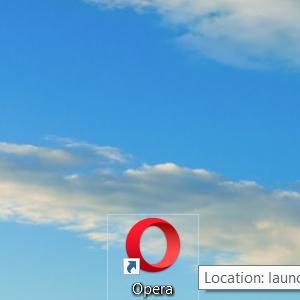opera: (123, 217, 181, 275)
